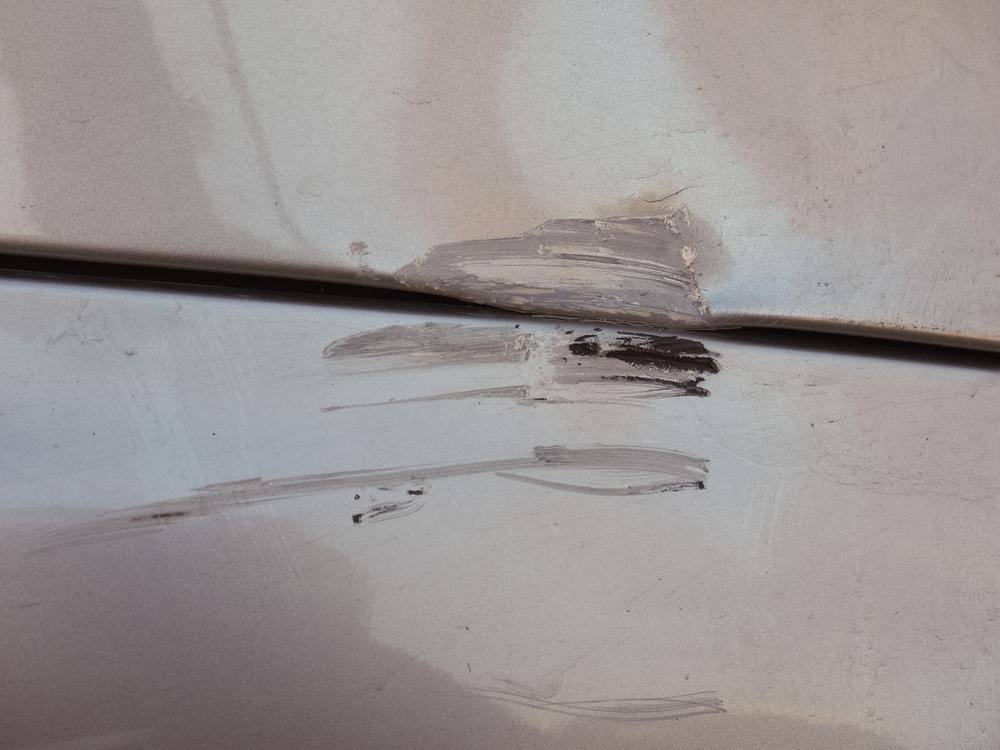scratch: (31, 320, 732, 733), (356, 201, 722, 333)
